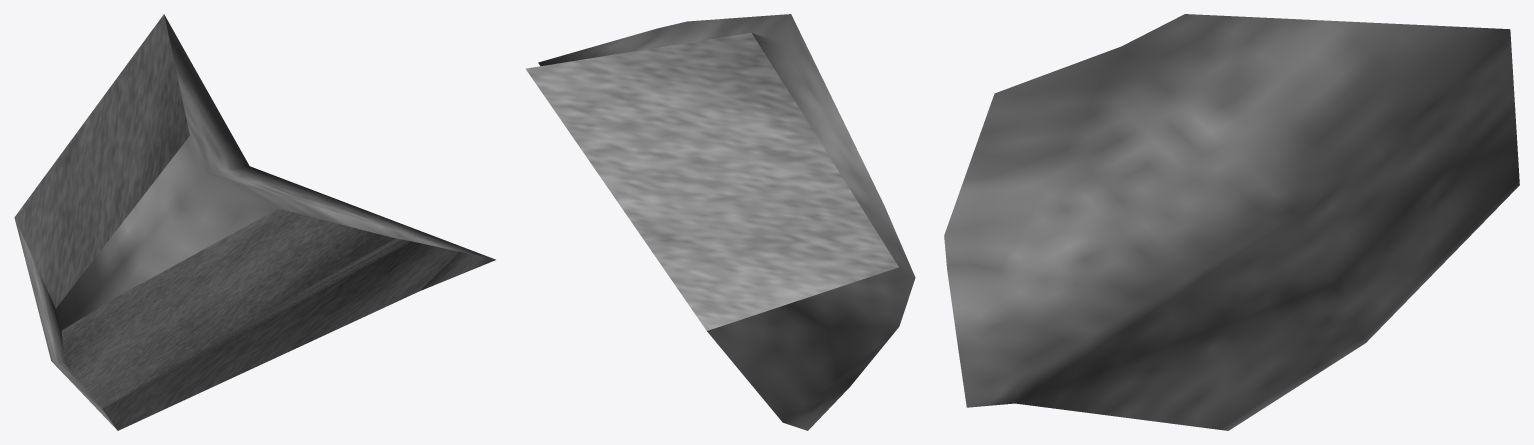
File: body_cell_075.fbx
3 renders of one model, left to right at view 1: azimuth 30°, elevation 25°; view 2: azimuth 150°, elevation 25°; view 3: azimuth 270°, elevation 25°, orthographic. The views are drawn at different scales.
Visible parts, largest first — view 1: body_cell.075; view 2: body_cell.075; view 3: body_cell.075.
Boxes of the visible parts, left/top/right/bottom form: body_cell.075: left=14, top=14, right=495, bottom=430; body_cell.075: left=526, top=14, right=915, bottom=430; body_cell.075: left=944, top=14, right=1519, bottom=430.
Bounding box in the file's own units: 11.45 × 9.51 × 9.81.
